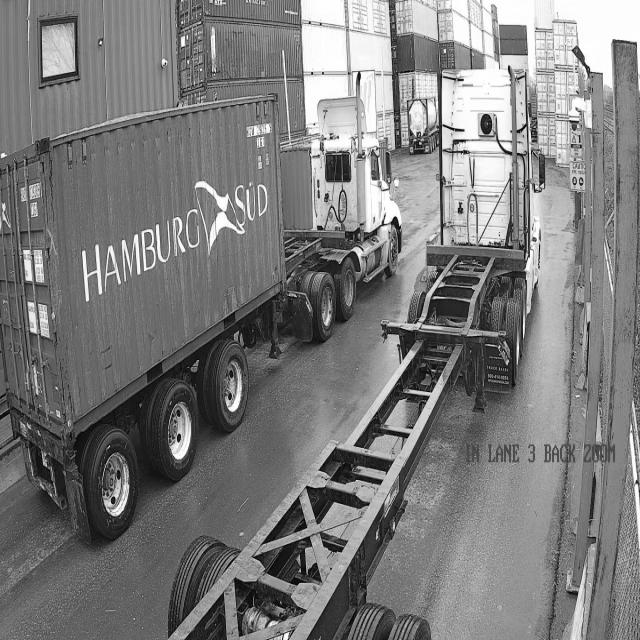container_company_logo: (77, 162, 273, 306)
truck_with_container: (0, 94, 402, 541)
truck_without_container: (168, 68, 546, 639)
